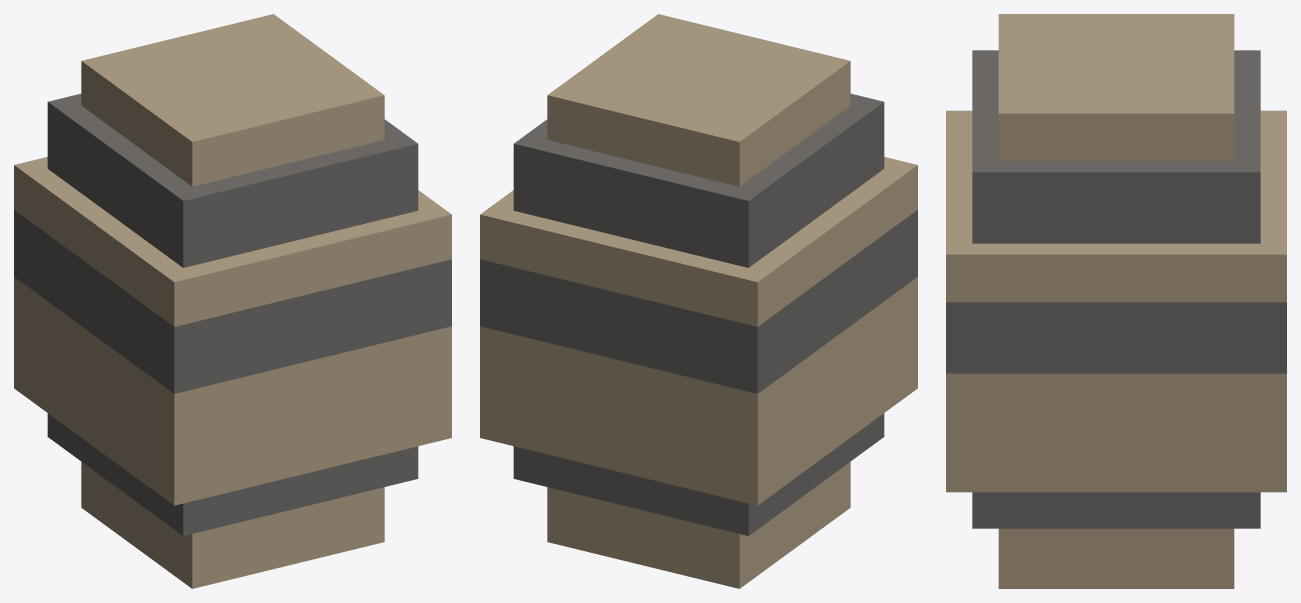
The model's file is barril_olmo_01.glb.
3 renders of one model, left to right at view 1: azimuth 30°, elevation 25°; view 2: azimuth 150°, elevation 25°; view 3: azimuth 270°, elevation 25°, orthographic. The views are drawn at different scales.
Parts seen in each view (by area): view 1: barril_olmo; view 2: barril_olmo; view 3: barril_olmo.
Boxes of the visible parts, bbox=[...] form: barril_olmo: bbox=[14, 14, 451, 588]; barril_olmo: bbox=[480, 14, 917, 588]; barril_olmo: bbox=[946, 14, 1286, 588].
Bounding box in the file's own units: 1 × 1.54 × 1.
